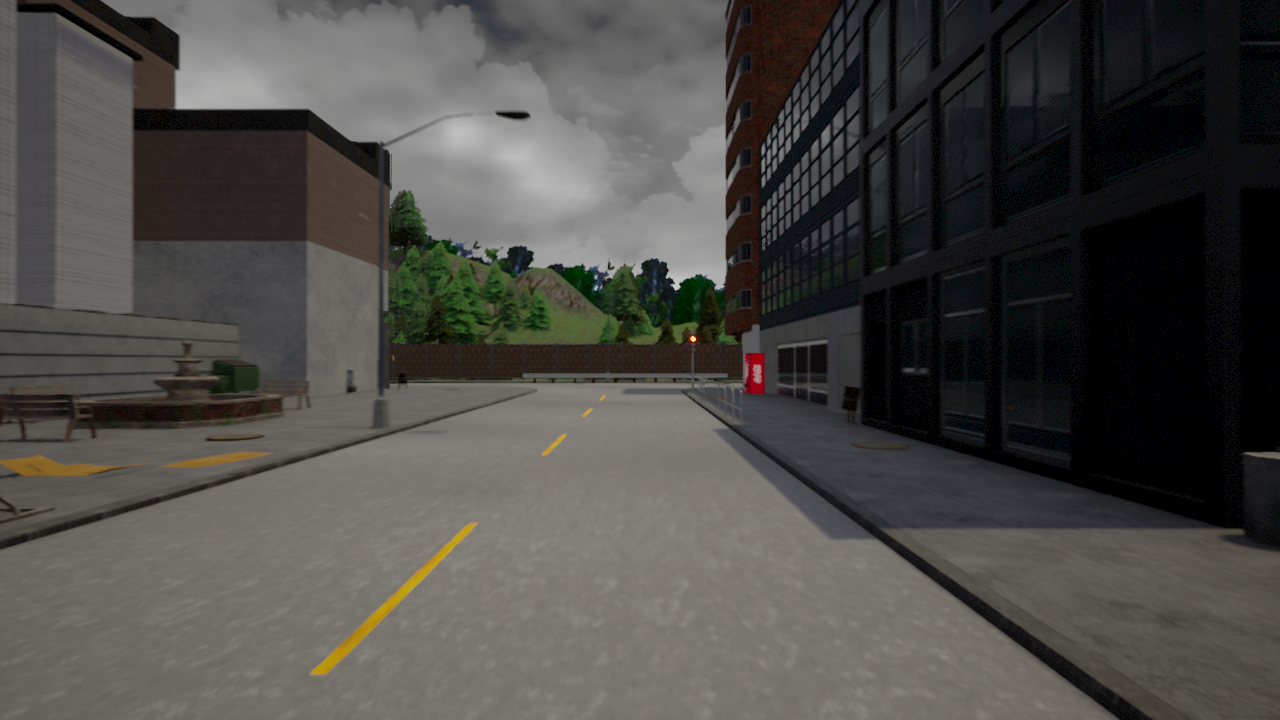red: (689, 334, 697, 354)
